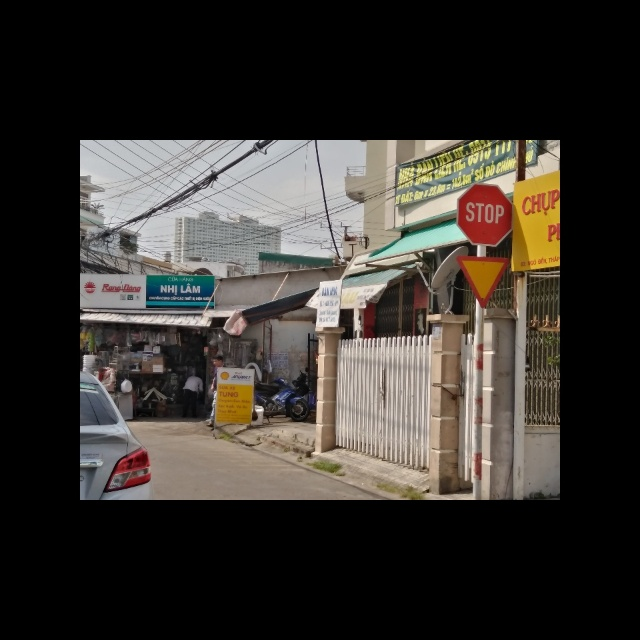Dừng lại: (457, 183, 513, 249)
Giao nhau với đường ưu tiên: (457, 254, 509, 308)
